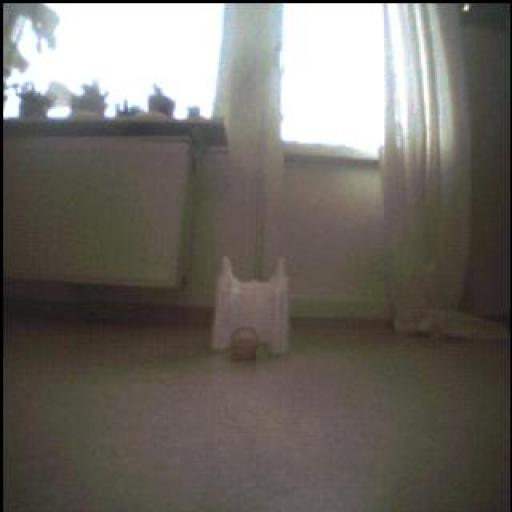Basket: (232, 327, 261, 361)
